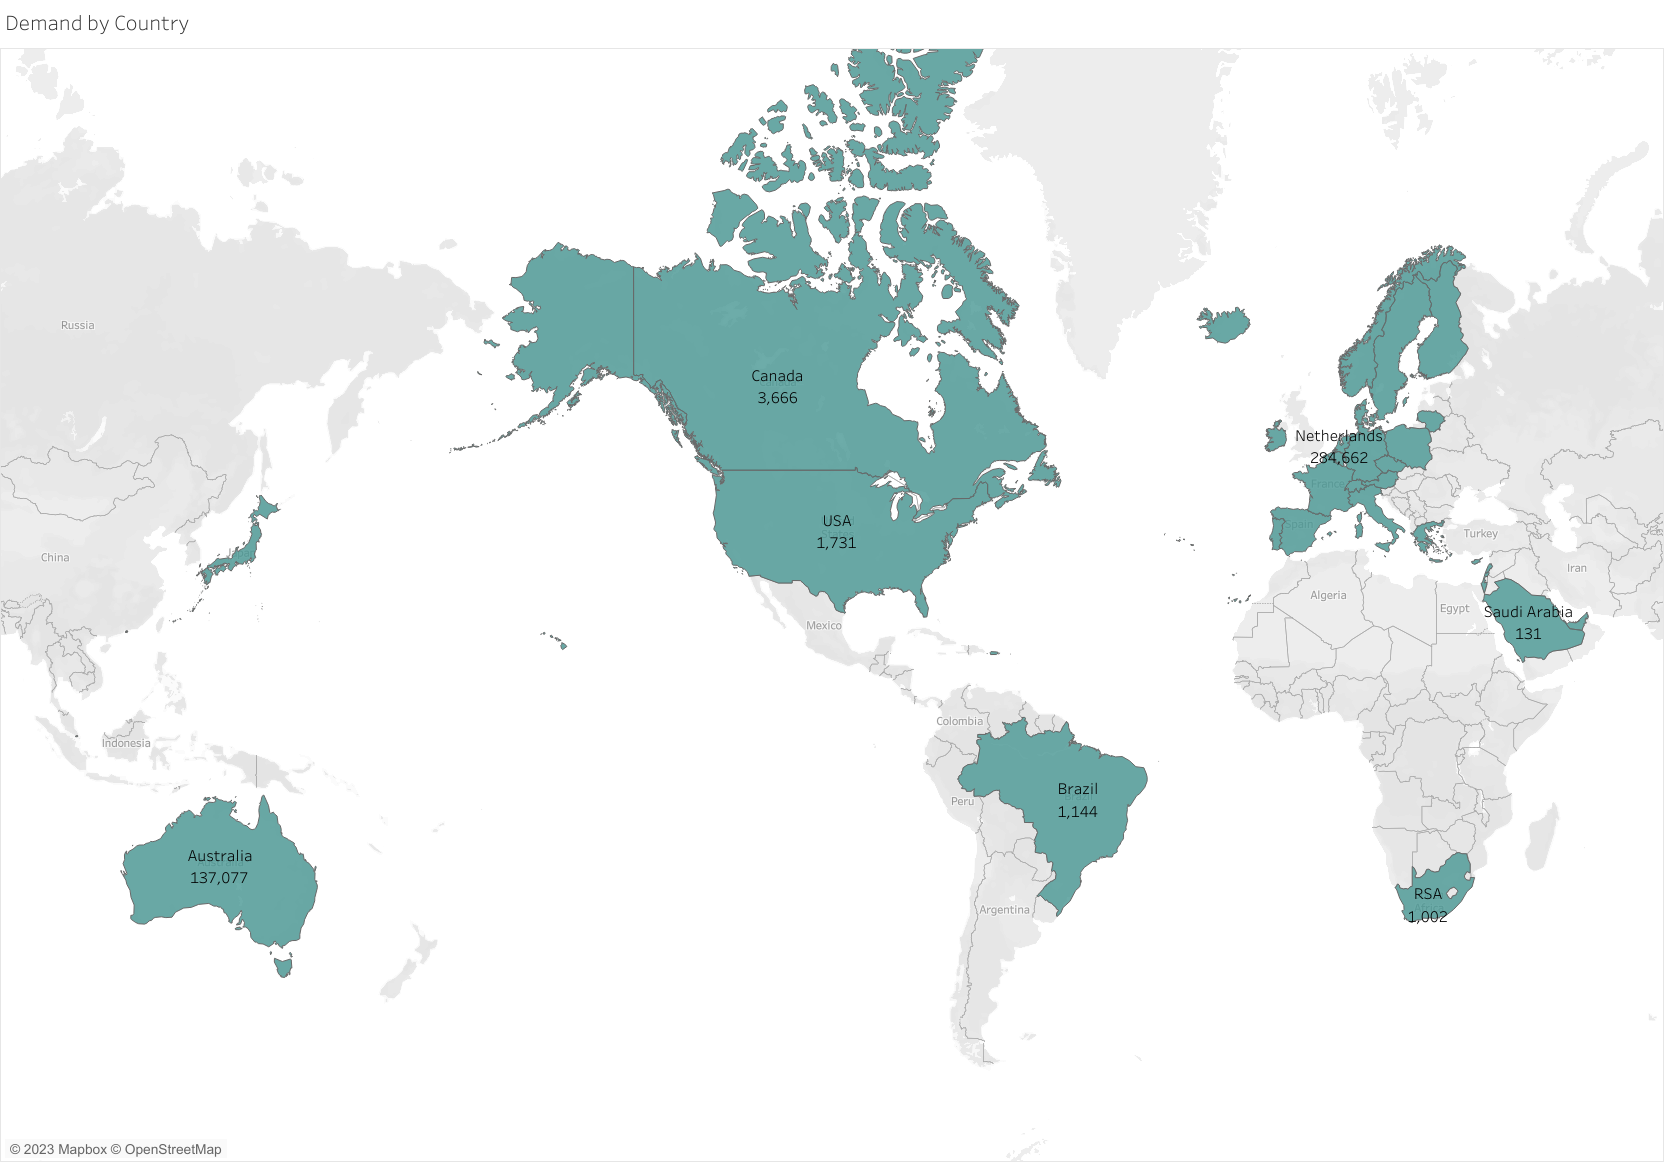

This screenshot's page, from the dashboard's own definition file:
{"tool":"powerbi","page":{"name":"Question4","canvas":[1280,720],"ordinal":3},"visuals":[{"type":"filledMap","fields":{"Category":["Online Retail.Country"]},"box":[17.2,58.6,744.8,403.4],"z":0}]}

Visuals, with their boxes on the page's 1280x720 design canvas (x1, y1, x2, y2). These are canvas units, not pixel positions in the 1666x1163 screenshot, which may show the page scaled, cropped or inside an application window:
filledMap - Online Retail.Country: {"x1": 17, "y1": 59, "x2": 762, "y2": 462}
